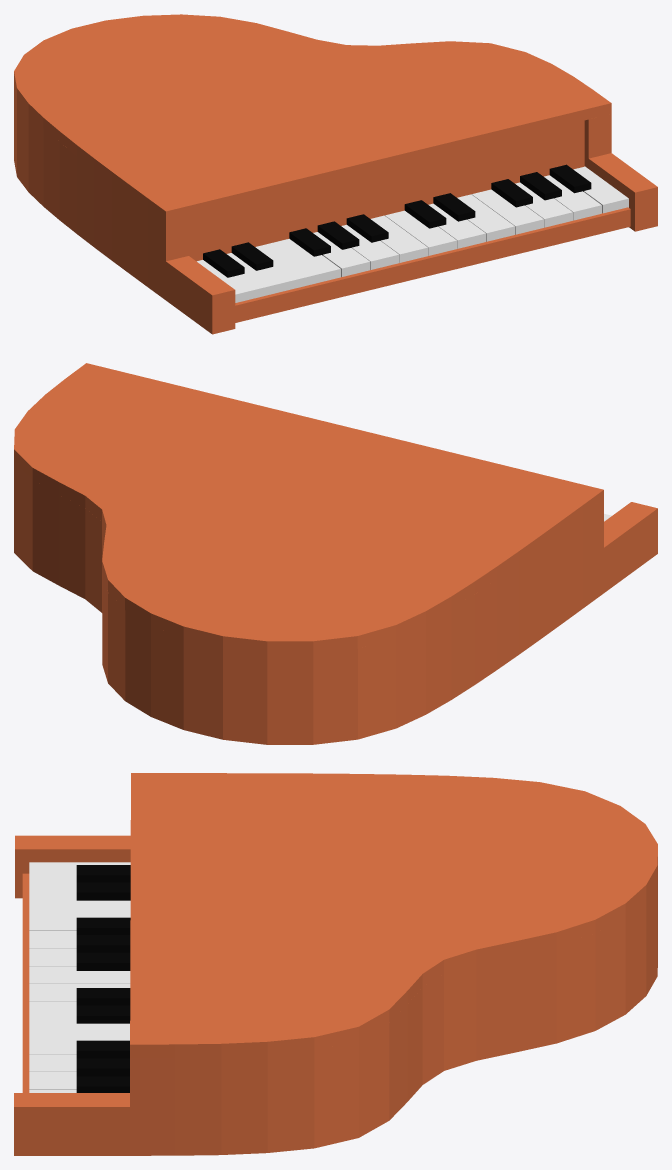
The model's file is piano.glb.
3 renders of one model, top to bottom at view 1: azimuth 30°, elevation 25°; view 2: azimuth 150°, elevation 25°; view 3: azimuth 270°, elevation 25°, orthographic. The views are drawn at different scales.
Visible parts, largest first — view 1: Plane.001, Plane, Cube, Cube.001, pianoNote7, pianoNote3, pianoNote10, pianoNote6, pianoNote9, pianoNote2, pianoNote13, pianoNote12 (+16 smaller); view 2: Plane.001, Plane; view 3: Plane.001, Plane, Cube.001, pianoNote9, pianoNote2, pianoNote6, pianoNote10, pianoNote3, pianoNote7, pianoNote15, pianoNote18, pianoNote20 (+14 smaller).
Part boxes in pixels (left/top/right/bottom): Plane.001: left=14, top=14, right=611, bottom=221; Plane: left=14, top=83, right=657, bottom=334; Cube: left=189, top=120, right=584, bottom=261; Cube.001: left=235, top=207, right=630, bottom=322; pianoNote7: left=385, top=210, right=457, bottom=255; pianoNote3: left=269, top=238, right=340, bottom=283; pianoNote10: left=472, top=189, right=543, bottom=234; pianoNote6: left=371, top=215, right=428, bottom=262; pianoNote9: left=457, top=194, right=514, bottom=241; pianoNote2: left=255, top=243, right=312, bottom=291; pianoNote13: left=573, top=166, right=628, bottom=213; pianoNote12: left=544, top=175, right=601, bottom=220; Plane.001: left=14, top=363, right=603, bottom=653; Plane: left=14, top=462, right=657, bottom=744; Plane.001: left=130, top=773, right=657, bottom=1057; Plane: left=14, top=835, right=657, bottom=1155; Cube.001: left=22, top=873, right=29, bottom=1092; pianoNote9: left=29, top=1019, right=129, bottom=1036; pianoNote2: left=29, top=895, right=130, bottom=912; pianoNote6: left=29, top=966, right=130, bottom=983; pianoNote10: left=29, top=1036, right=129, bottom=1054; pianoNote3: left=29, top=913, right=130, bottom=930; pianoNote7: left=29, top=984, right=130, bottom=1001; pianoNote15: left=76, top=882, right=130, bottom=900; pianoNote18: left=76, top=952, right=130, bottom=970; pianoNote20: left=76, top=1005, right=130, bottom=1023.
Size of the model in its own units: 3.73 by 0.7126 by 3.74.
